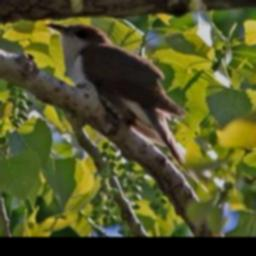Cuckoo: (45, 20, 192, 183)
